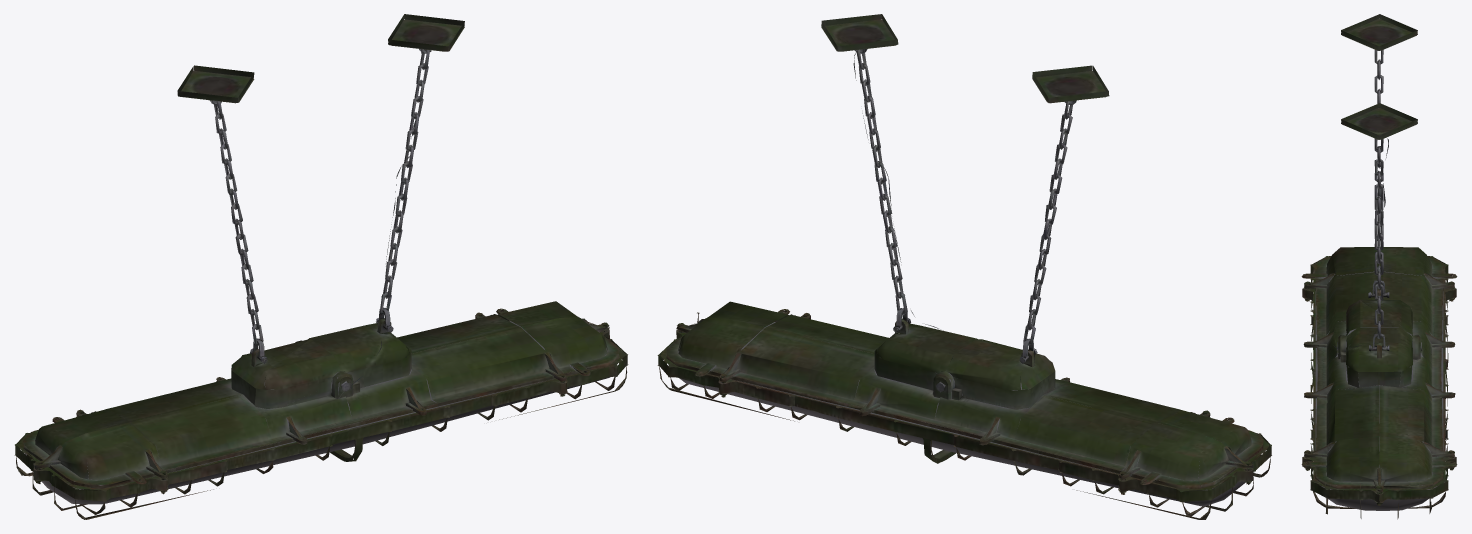
Rendered from ph_caged_hanging_light.glb.
The picture shows the model from 3 angles, left to right: view 1: azimuth 30°, elevation 25°; view 2: azimuth 150°, elevation 25°; view 3: azimuth 270°, elevation 25°; orthographic projection. The views are drawn at different scales.
Parts seen in each view (by area): view 1: caged_hanging_light; view 2: caged_hanging_light; view 3: caged_hanging_light.
Boxes of the visible parts, <box> form: caged_hanging_light: <box>14,14,628,519</box>; caged_hanging_light: <box>657,14,1271,519</box>; caged_hanging_light: <box>1301,14,1457,519</box>.
Size of the model in its own units: 1.17 by 0.7501 by 0.3162.
1 material, 1 textured.
